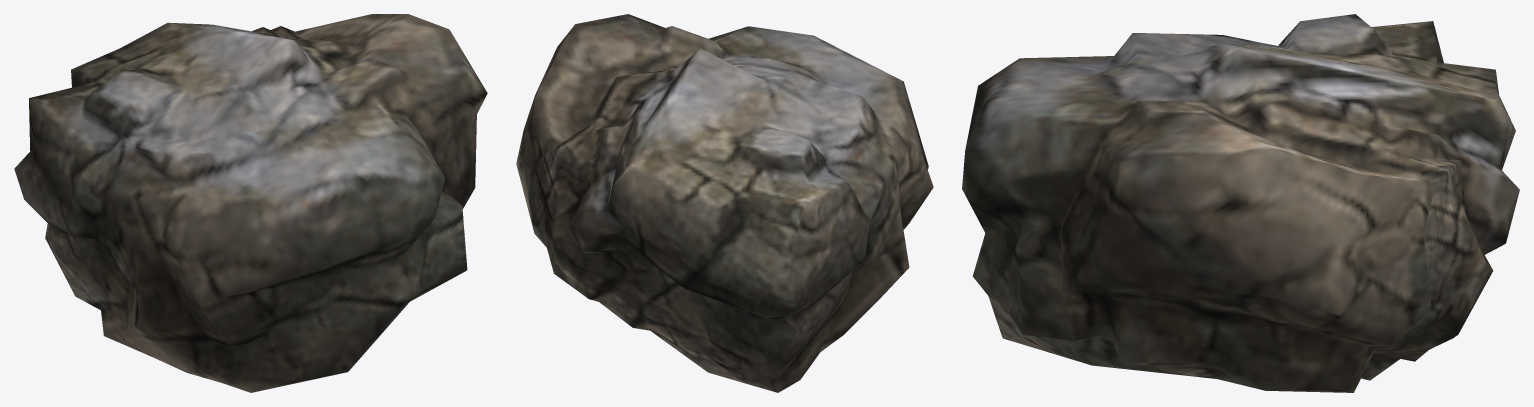
File: Rock4A.FBX
The picture shows the model from 3 angles, left to right: view 1: azimuth 30°, elevation 25°; view 2: azimuth 150°, elevation 25°; view 3: azimuth 270°, elevation 25°; orthographic projection. The views are drawn at different scales.
Parts seen in each view (by area): view 1: Rock4A; view 2: Rock4A; view 3: Rock4A.
Boxes of the visible parts, x1=… form: Rock4A: x1=14, y1=14, x2=487, y2=392; Rock4A: x1=516, y1=14, x2=933, y2=392; Rock4A: x1=962, y1=14, x2=1519, y2=392.
Bounding box in the file's own units: 1.94 × 1.56 × 2.09.
